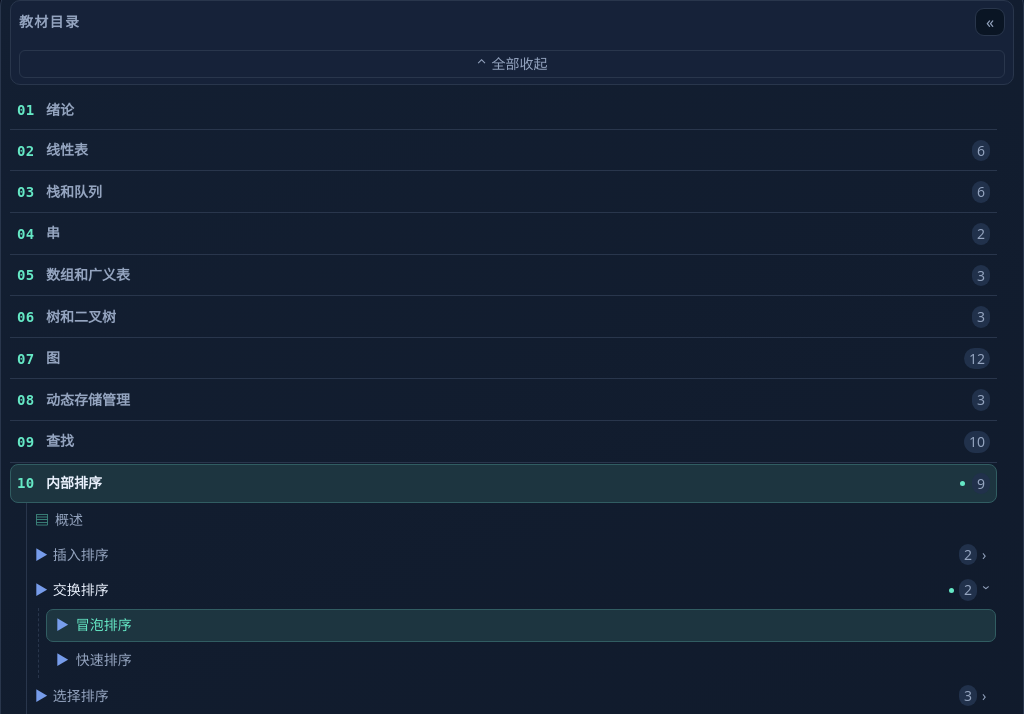
AlgorithmSidebar — textbook chapters (UX-03) › uses one toggle to collapse every open branch, then expand all
The image size is (1024, 714).
Step 1. Click the button with test id "sidebar-toggle-all" → (512, 64), box [19,50,1005,78]
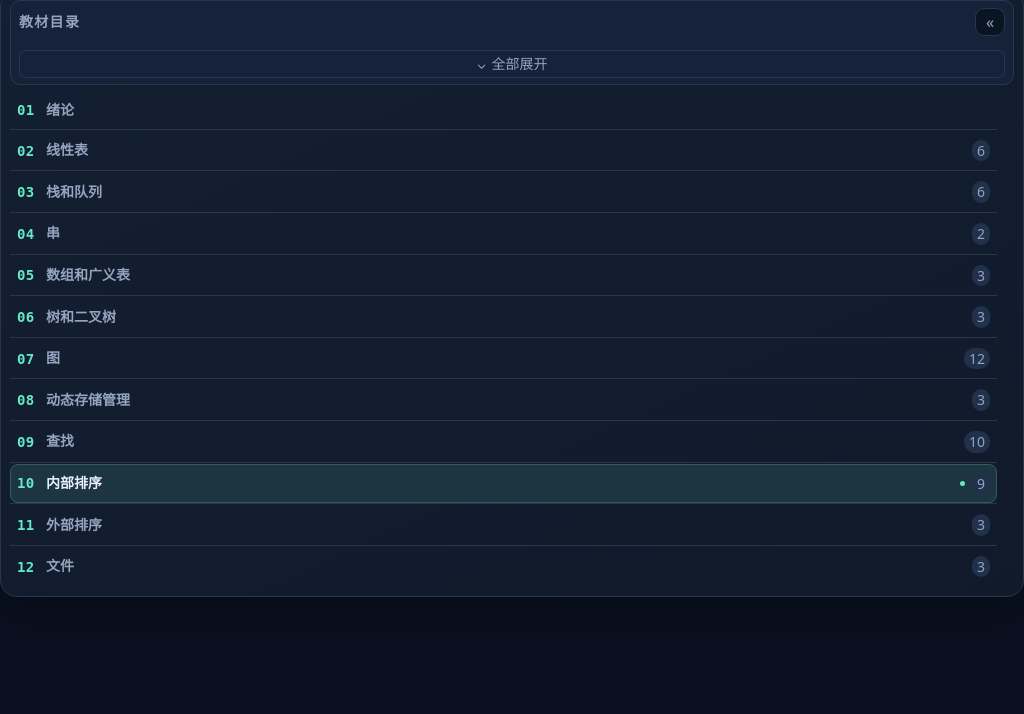
Now the button with test id "sidebar-toggle-all" shows "全部展开"
Step 2. Click the button with test id "sidebar-toggle-all" → (512, 64), box [19,50,1005,78]
(page scrolled)
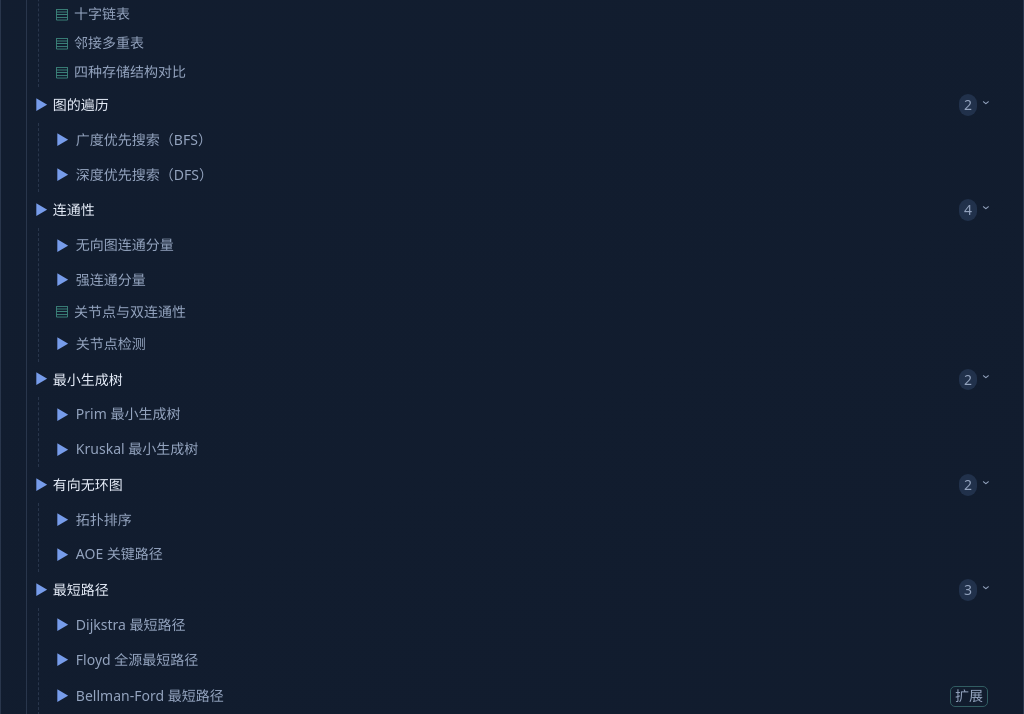
Now the button with test id "algo-prim" is shown, box [46,398,996,431]
